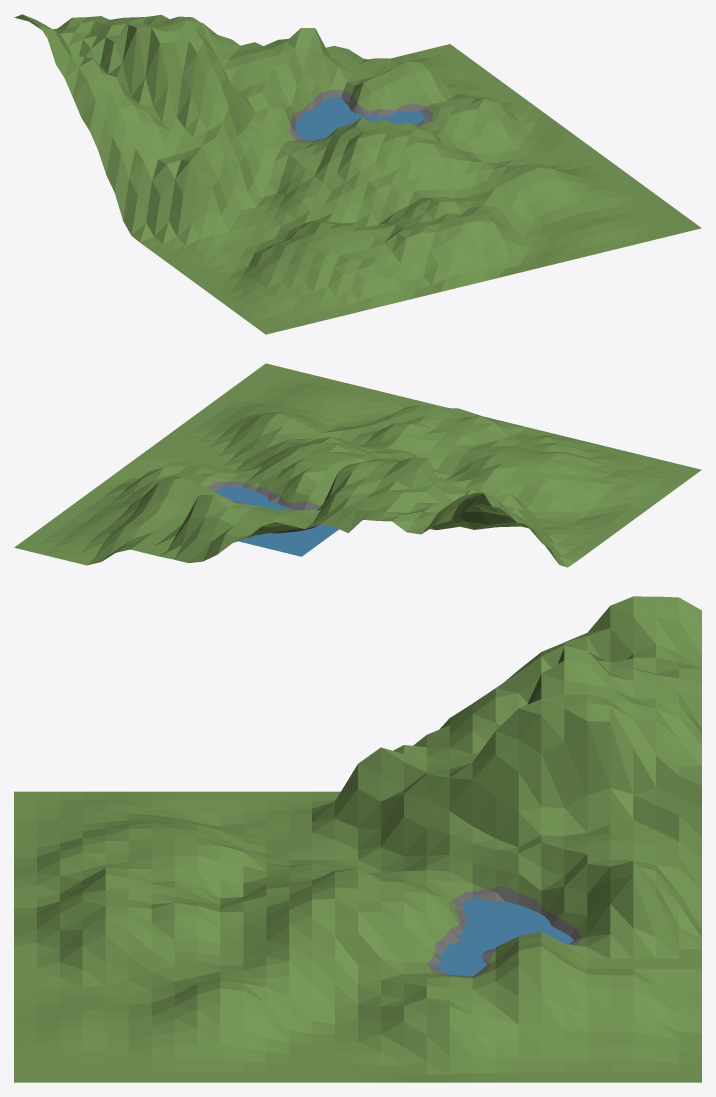
Rendered from Ground_02.FBX.
3 renders of one model, top to bottom at view 1: azimuth 30°, elevation 25°; view 2: azimuth 150°, elevation 25°; view 3: azimuth 270°, elevation 25°, orthographic. The views are drawn at different scales.
Visible parts, largest first — view 1: Ground_02; view 2: Ground_02; view 3: Ground_02.
Boxes of the visible parts, x1=… form: Ground_02: x1=14, y1=14, x2=701, y2=334; Ground_02: x1=14, y1=363, x2=701, y2=567; Ground_02: x1=14, y1=596, x2=701, y2=1082.
Bounding box in the file's own units: 50 × 16.08 × 50.
